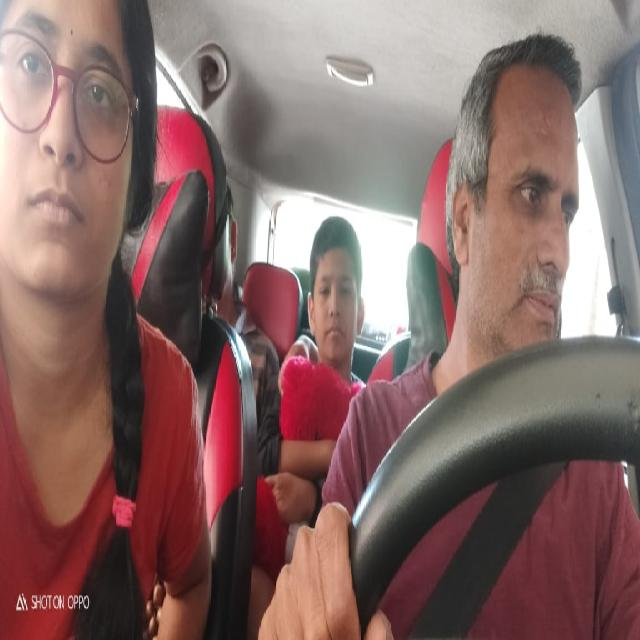LeftRight: (446, 37, 582, 342)
person: (0, 2, 139, 300), (310, 218, 368, 358)
